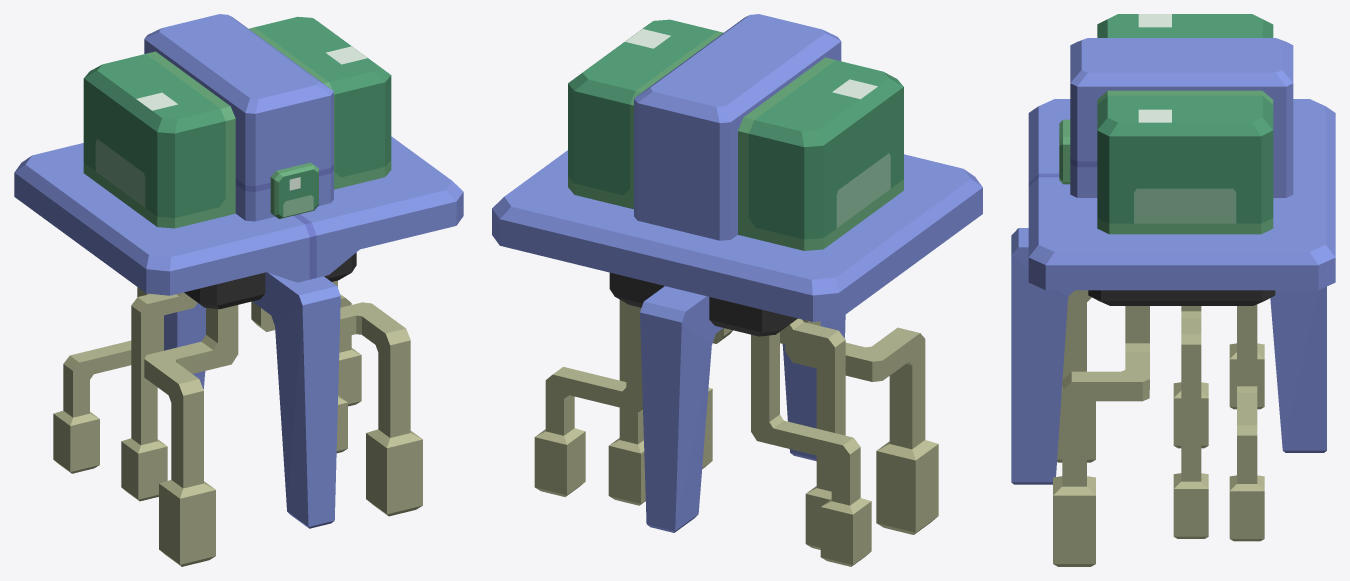
File: model_shiny.obj
3 renders of one model, left to right at view 1: azimuth 30°, elevation 25°; view 2: azimuth 150°, elevation 25°; view 3: azimuth 270°, elevation 25°, orthographic. The views are drawn at different scales.
Visible parts, largest first — view 1: 0073_tentacruel_shiny; view 2: 0073_tentacruel_shiny; view 3: 0073_tentacruel_shiny.
Part boxes in pixels (bbox=[...]): 0073_tentacruel_shiny: bbox=[14, 14, 463, 566]; 0073_tentacruel_shiny: bbox=[492, 14, 982, 566]; 0073_tentacruel_shiny: bbox=[1011, 14, 1335, 566].
Bounding box in the file's own units: 2.21 × 2.92 × 1.89.
1 material, 1 textured.
